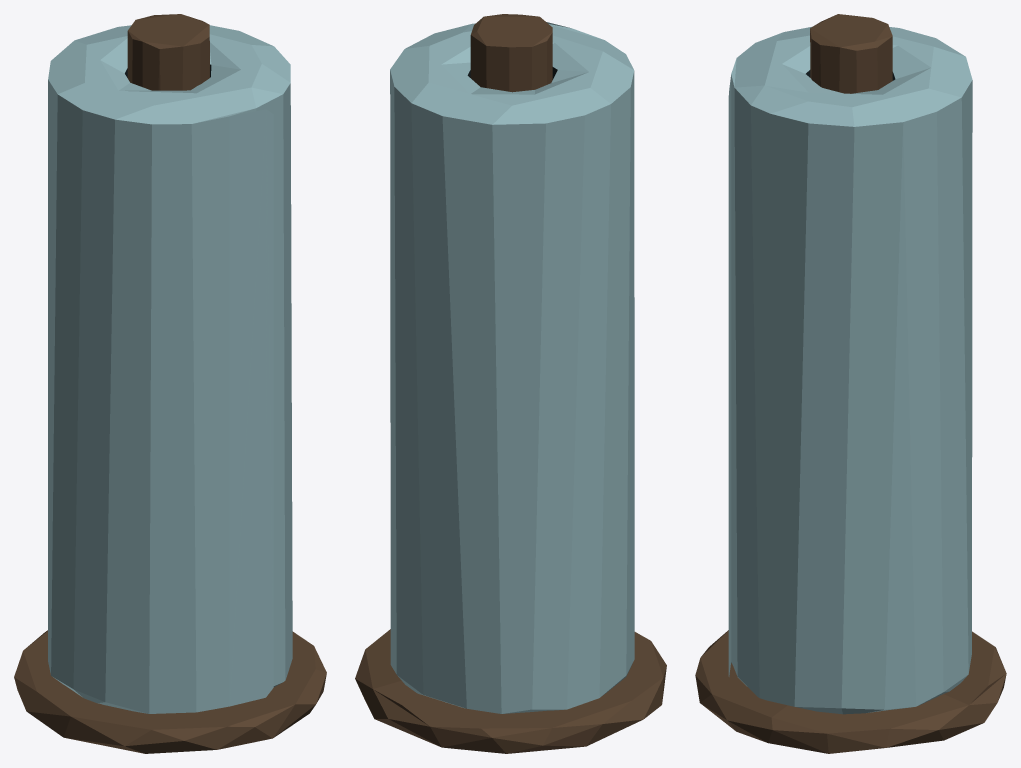
File: KitchenTowel.fbx
3 views of the same model, side by side, from view 1: azimuth 30°, elevation 25°; view 2: azimuth 150°, elevation 25°; view 3: azimuth 270°, elevation 25° (orthographic).
Parts seen in each view (by area): view 1: KitchenTowelLowPoly, KitchenTowelHolderLowPoly; view 2: KitchenTowelLowPoly, KitchenTowelHolderLowPoly; view 3: KitchenTowelLowPoly, KitchenTowelHolderLowPoly.
Part boxes in pixels (x1,y1,x2,y2): KitchenTowelLowPoly: (48, 25, 292, 713); KitchenTowelHolderLowPoly: (14, 14, 326, 753); KitchenTowelLowPoly: (390, 22, 634, 713); KitchenTowelHolderLowPoly: (355, 14, 666, 753); KitchenTowelLowPoly: (728, 27, 972, 714); KitchenTowelHolderLowPoly: (695, 14, 1006, 753).
Bounding box in the file's own units: 12.52 × 29.21 × 12.47.
